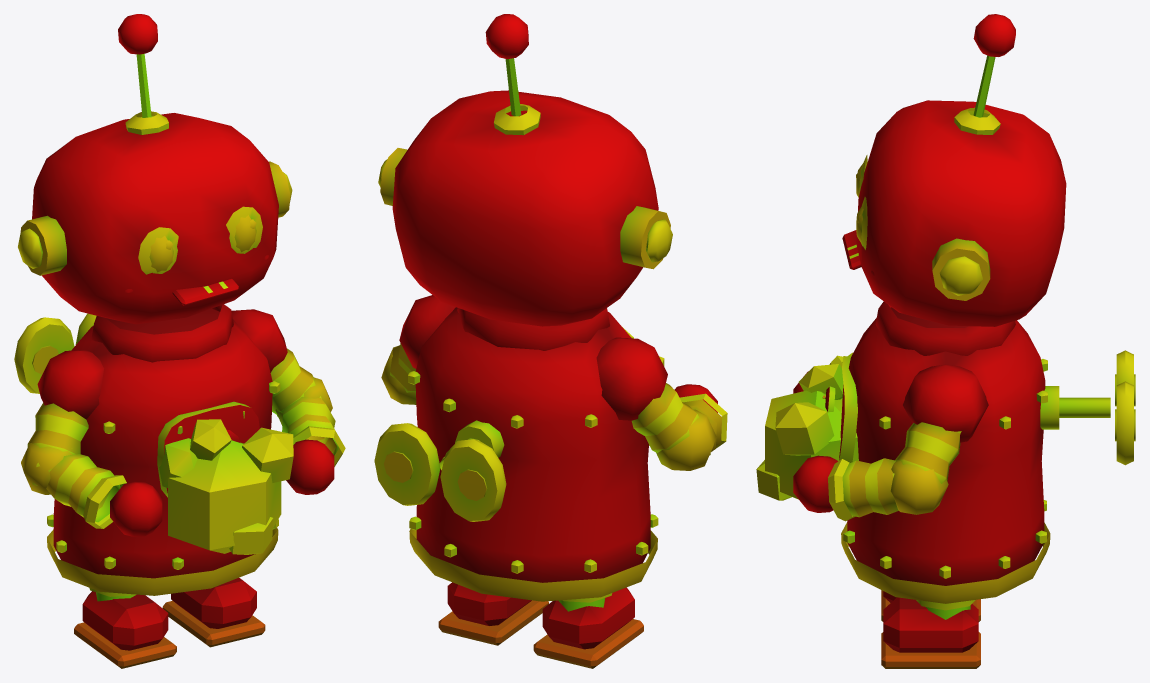
The model's file is RobotWorker_carry_gold.glb.
3 views of the same model, side by side, from view 1: azimuth 30°, elevation 25°; view 2: azimuth 150°, elevation 25°; view 3: azimuth 270°, elevation 25° (orthographic). The views are drawn at different scales.
Visible parts, largest first — view 1: RobotWorker_carry_gold; view 2: RobotWorker_carry_gold; view 3: RobotWorker_carry_gold.
Boxes of the visible parts, x1,y1,x2,y2 form: RobotWorker_carry_gold: (14,14,345,668); RobotWorker_carry_gold: (374,14,727,668); RobotWorker_carry_gold: (756,14,1135,668).
Bounding box in the file's own units: 0.498 × 0.93 × 0.5173.
